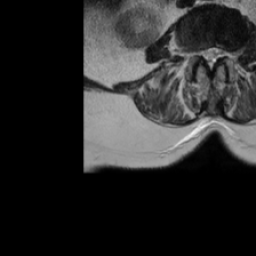CCS_normal: (207, 38, 213, 74)
LFS_stenosis: (223, 40, 231, 64)
LLS_normal: (213, 40, 223, 65)
RFS_stenosis: (191, 41, 199, 64)
RLS_normal: (199, 41, 207, 64)
